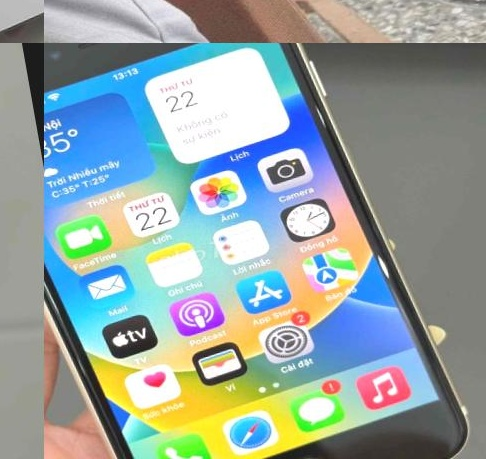scratch: (374, 253, 398, 286)
